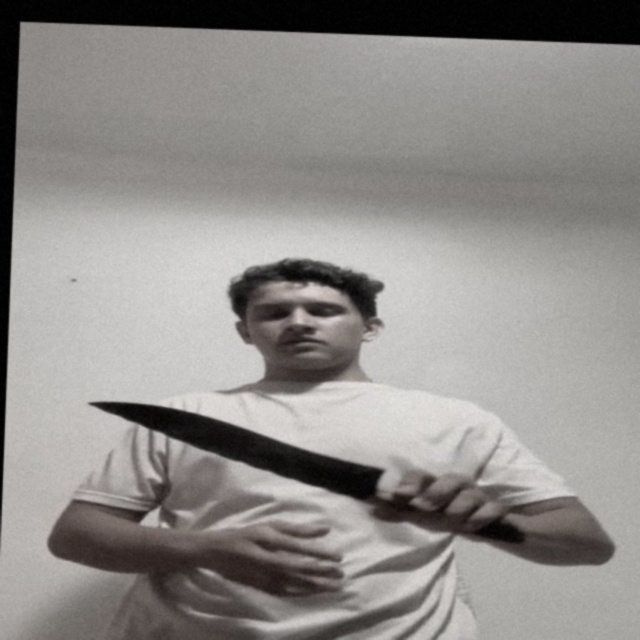Sharp-Object: (84, 400, 390, 501)
